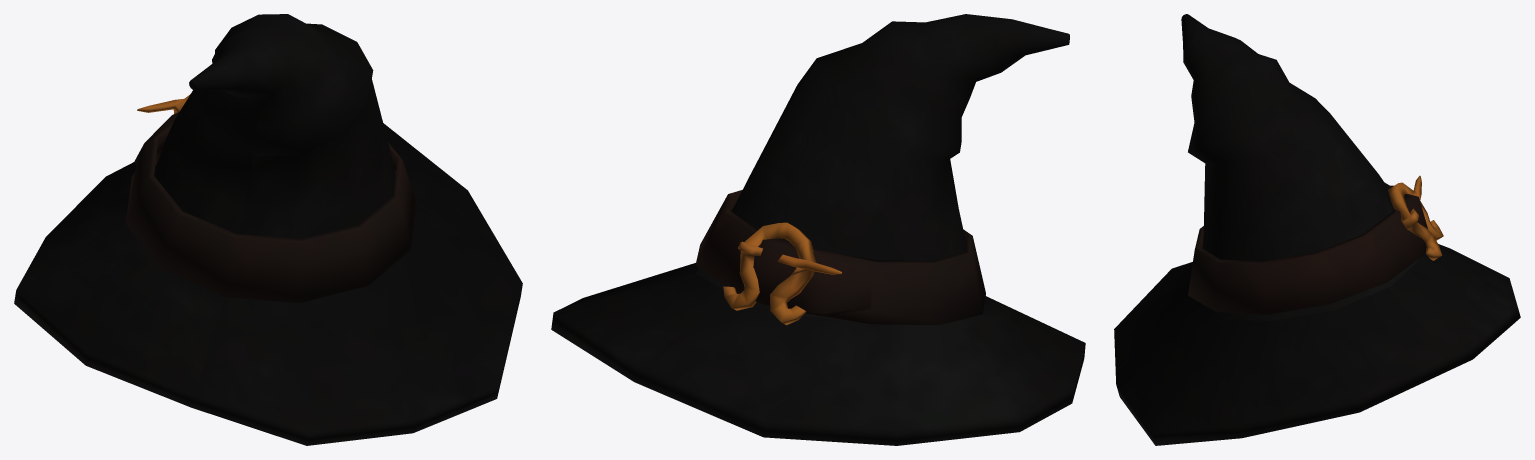
File: HelmetPointyFixed.fbx
3 renders of one model, left to right at view 1: azimuth 30°, elevation 25°; view 2: azimuth 150°, elevation 25°; view 3: azimuth 270°, elevation 25°, orthographic. The views are drawn at different scales.
Visible parts, largest first — view 1: attach; view 2: attach; view 3: attach.
Part boxes in pixels (<box>): attach: <box>14,14,522,445</box>; attach: <box>551,14,1085,445</box>; attach: <box>1114,14,1520,445</box>.
Size of the model in its own units: 43.12 by 35.99 by 41.
1 material, 1 textured.
